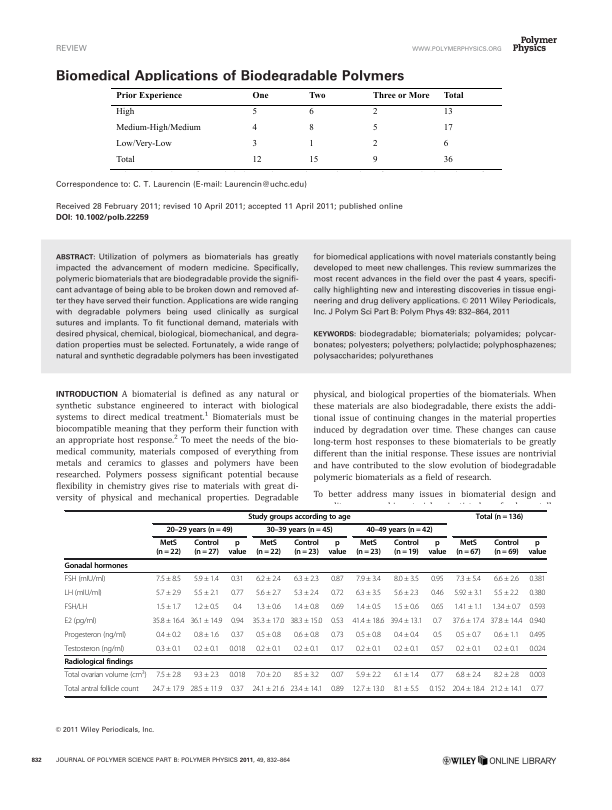borderless: (63, 509, 546, 696), (110, 86, 502, 169)
cell: (247, 513, 351, 522), (64, 669, 147, 680), (115, 123, 201, 133), (265, 526, 334, 536), (64, 685, 140, 694), (165, 526, 233, 536), (365, 526, 433, 536), (115, 90, 182, 100), (64, 561, 129, 571), (64, 630, 127, 640), (64, 658, 134, 667), (64, 644, 125, 654), (371, 90, 430, 100), (115, 139, 172, 149), (155, 539, 182, 558), (193, 539, 220, 558), (255, 539, 282, 558), (293, 539, 320, 558), (355, 539, 382, 558), (393, 539, 420, 558), (455, 539, 482, 558), (493, 539, 520, 558), (475, 513, 524, 522), (64, 574, 106, 584), (64, 588, 103, 598), (327, 539, 347, 558), (427, 539, 447, 558), (527, 539, 547, 558), (228, 539, 247, 558), (151, 616, 185, 626), (189, 616, 223, 626), (251, 616, 285, 626), (289, 616, 323, 626), (351, 616, 385, 626), (389, 616, 423, 626), (451, 616, 485, 626), (489, 616, 523, 626), (64, 616, 97, 626), (453, 602, 484, 612), (491, 602, 522, 612), (151, 685, 185, 694), (189, 685, 223, 694), (251, 685, 285, 694), (289, 685, 323, 694), (351, 685, 385, 694), (451, 685, 485, 694), (489, 685, 523, 694), (453, 588, 483, 598), (155, 574, 182, 584), (193, 574, 220, 584), (255, 574, 282, 584), (293, 574, 320, 584), (355, 574, 382, 584), (393, 574, 420, 584), (455, 574, 482, 584), (493, 574, 520, 584), (155, 588, 182, 598), (193, 588, 220, 598), (255, 588, 282, 598), (293, 588, 320, 598), (355, 588, 382, 598), (393, 588, 420, 598), (493, 588, 520, 598), (155, 602, 182, 612), (193, 602, 220, 612), (255, 602, 282, 612), (293, 602, 320, 612), (355, 602, 382, 612), (393, 602, 420, 612), (155, 630, 182, 640), (193, 630, 220, 640), (255, 630, 282, 640), (293, 630, 320, 640), (355, 630, 382, 640), (393, 630, 420, 640), (455, 630, 482, 640), (493, 630, 520, 640), (155, 644, 182, 654), (193, 644, 220, 654), (255, 644, 282, 654), (293, 644, 320, 654), (355, 644, 382, 654), (393, 644, 420, 654), (455, 644, 482, 654), (493, 644, 520, 654), (155, 671, 182, 680), (193, 671, 220, 680), (255, 671, 282, 680), (293, 671, 320, 680), (355, 671, 382, 680), (393, 671, 420, 680), (455, 671, 482, 680), (493, 671, 520, 680), (393, 685, 420, 694), (64, 602, 88, 612), (442, 90, 464, 100), (115, 107, 135, 117), (115, 155, 135, 165), (528, 574, 546, 584), (528, 588, 546, 598), (528, 602, 546, 612), (528, 616, 546, 626), (528, 630, 546, 640), (228, 644, 246, 654), (528, 644, 546, 654), (251, 90, 269, 100), (308, 90, 326, 100), (228, 671, 246, 680), (528, 671, 546, 680), (428, 685, 446, 694), (230, 574, 245, 584), (330, 574, 345, 584), (330, 602, 345, 612), (430, 602, 445, 612), (330, 616, 345, 626), (230, 630, 245, 640), (330, 630, 345, 640), (330, 644, 345, 654), (430, 574, 444, 584), (230, 588, 244, 598), (330, 588, 344, 598), (430, 588, 444, 598), (230, 616, 244, 626), (430, 644, 444, 654), (330, 671, 345, 680), (330, 685, 345, 694), (430, 671, 444, 680), (230, 685, 244, 694), (530, 685, 544, 694), (232, 602, 243, 612), (432, 616, 443, 626), (432, 630, 443, 640), (442, 107, 453, 117), (442, 123, 453, 133), (251, 155, 262, 165), (308, 155, 319, 165), (442, 155, 453, 165), (371, 107, 378, 117), (371, 123, 378, 133), (371, 139, 378, 149), (442, 139, 449, 149), (371, 155, 378, 165), (251, 107, 257, 117), (308, 107, 314, 117), (251, 123, 257, 133), (308, 123, 314, 133), (251, 139, 257, 149), (308, 139, 314, 149)
